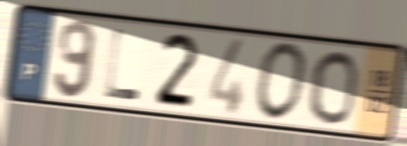2: (153, 32, 203, 113)
4: (206, 34, 247, 118)
9: (53, 17, 99, 102)
L: (102, 26, 143, 103)
O: (253, 40, 311, 125), (307, 48, 360, 127)
